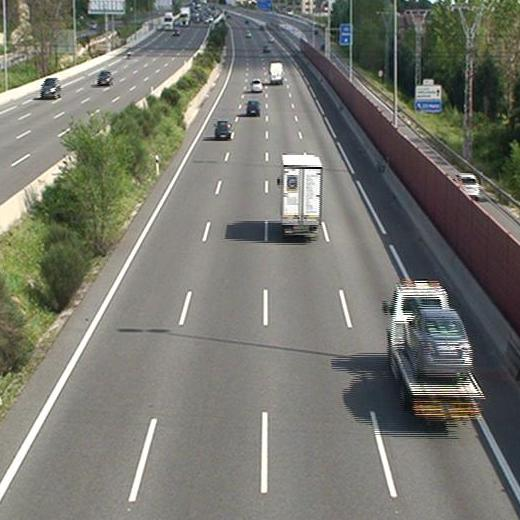car: (410, 311, 471, 378), (213, 120, 232, 140), (245, 100, 262, 117), (249, 77, 263, 92)
small-truck: (383, 280, 486, 423), (276, 155, 323, 237)
van: (268, 61, 284, 84)
